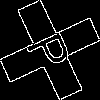P: (25, 25, 81, 75)
